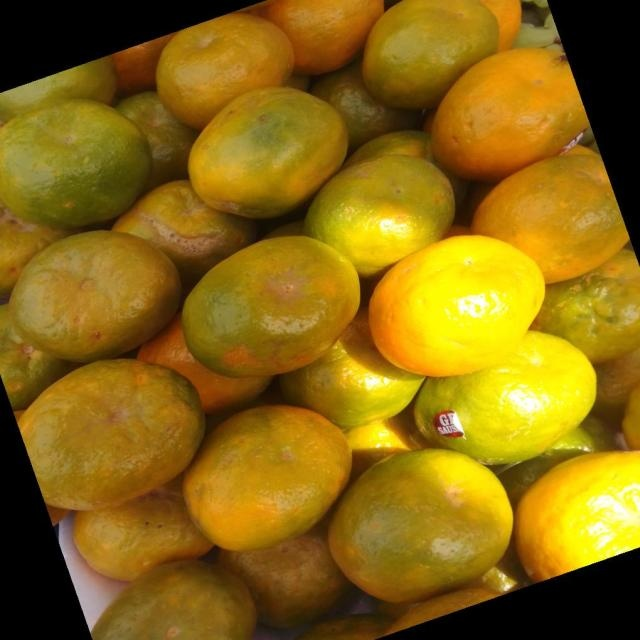agrume: (0, 0, 638, 637), (19, 360, 202, 512), (181, 234, 360, 378), (367, 234, 545, 377), (182, 404, 352, 552), (12, 232, 180, 363), (189, 89, 345, 218), (433, 48, 585, 178), (473, 154, 623, 282), (1, 101, 150, 228), (303, 154, 453, 277), (156, 13, 294, 128), (112, 180, 253, 289), (362, 0, 499, 108), (220, 525, 349, 630), (136, 315, 272, 413), (76, 485, 213, 581), (90, 561, 254, 638), (256, 0, 386, 73), (310, 63, 416, 149), (113, 92, 201, 189), (0, 305, 80, 411), (1, 56, 117, 124)
